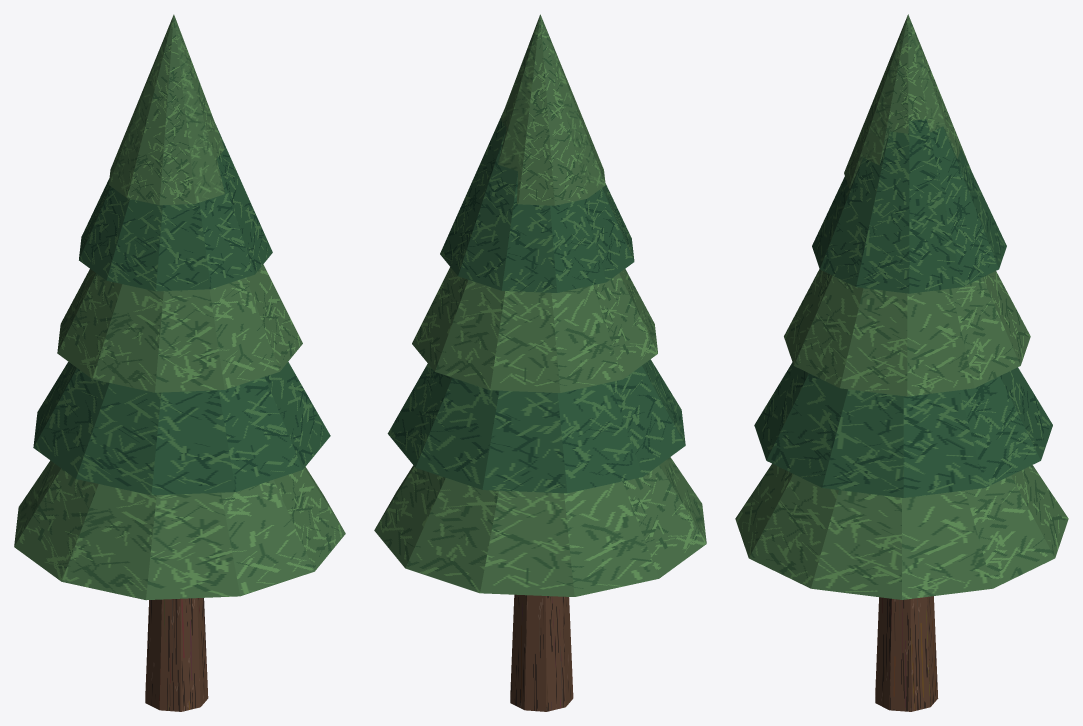
The model's file is Pine.obj.
3 views of the same model, side by side, from view 1: azimuth 30°, elevation 25°; view 2: azimuth 150°, elevation 25°; view 3: azimuth 270°, elevation 25° (orthographic).
Parts seen in each view (by area): view 1: Pine_Pine_Needles_Light, Pine_Pine_Needles, Pine_Pine_Bark; view 2: Pine_Pine_Needles_Light, Pine_Pine_Needles, Pine_Pine_Bark; view 3: Pine_Pine_Needles_Light, Pine_Pine_Needles, Pine_Pine_Bark.
Boxes of the visible parts, box(x1,y1,x2,y2) form: Pine_Pine_Needles_Light: box(14, 14, 345, 600); Pine_Pine_Needles: box(33, 124, 330, 495); Pine_Pine_Bark: box(145, 598, 208, 711); Pine_Pine_Needles_Light: box(374, 14, 706, 596); Pine_Pine_Needles: box(387, 112, 685, 493); Pine_Pine_Bark: box(510, 594, 573, 711); Pine_Pine_Needles_Light: box(735, 14, 1068, 599); Pine_Pine_Needles: box(754, 119, 1052, 497); Pine_Pine_Bark: box(875, 596, 938, 711).
Size of the model in its own units: 2.65 by 6.05 by 2.67.
3 materials, 3 textured.
